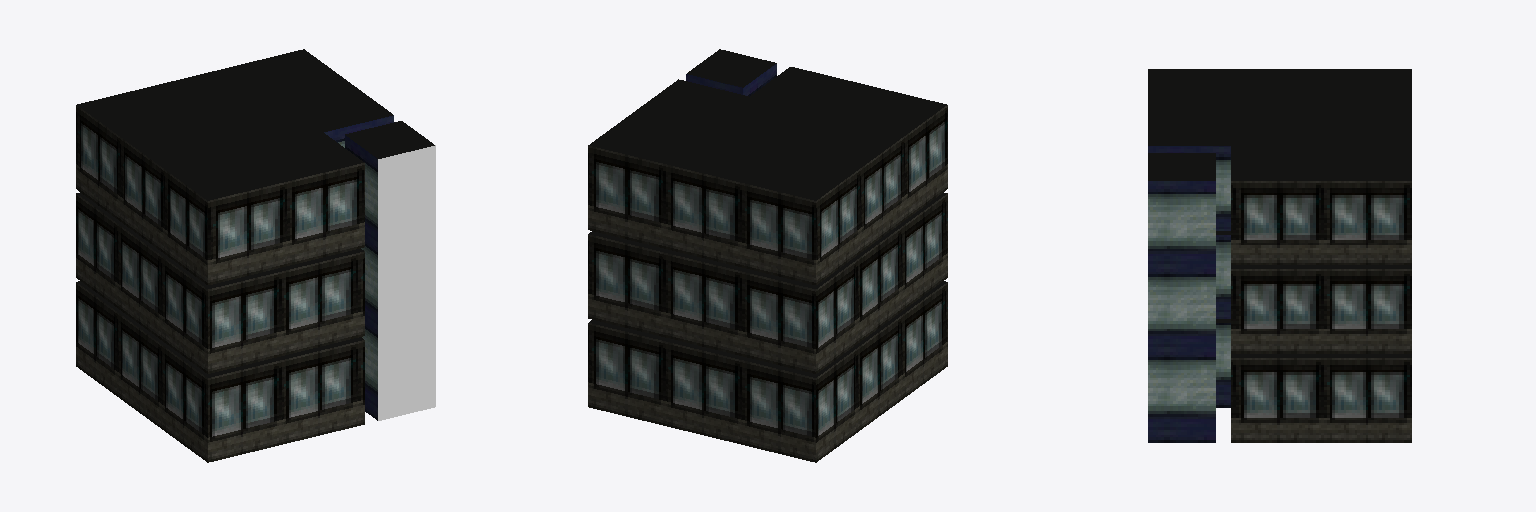
3 views of the same model, side by side, from view 1: azimuth 30°, elevation 25°; view 2: azimuth 150°, elevation 25°; view 3: azimuth 270°, elevation 25° (orthographic).
Visible parts, largest first — view 1: sisterwork; view 2: sisterwork; view 3: sisterwork.
Part boxes in pixels (bbox=[...]): sisterwork: bbox=[76, 49, 435, 462]; sisterwork: bbox=[588, 49, 947, 462]; sisterwork: bbox=[1148, 69, 1411, 442].
Size of the model in its own units: 19.36 by 21.27 by 19.36.
Materials: 5 (3 with a texture image).